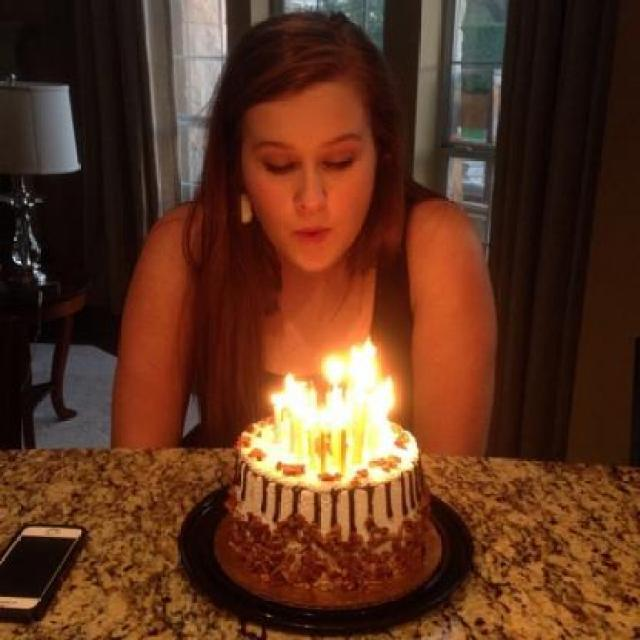phone: (0, 524, 91, 624)
